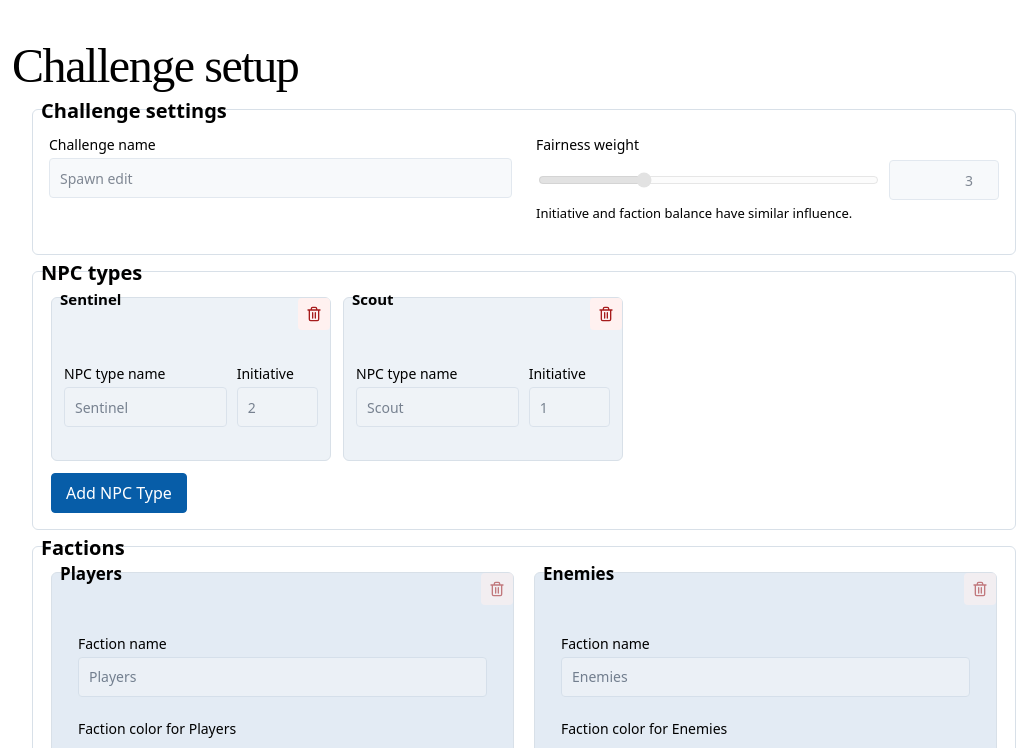
new challenge setup › initializes the NPC default after reload and permits only new type configuration
Expected: the heading "Challenge setup" is shown, [12, 39, 298, 92]
Expected: the field named "NPC type name: Sentinel" is disabled, [64, 387, 227, 427]
Click the button "Add NPC Type" at (119, 493), box [51, 473, 187, 513]
(page scrolled)
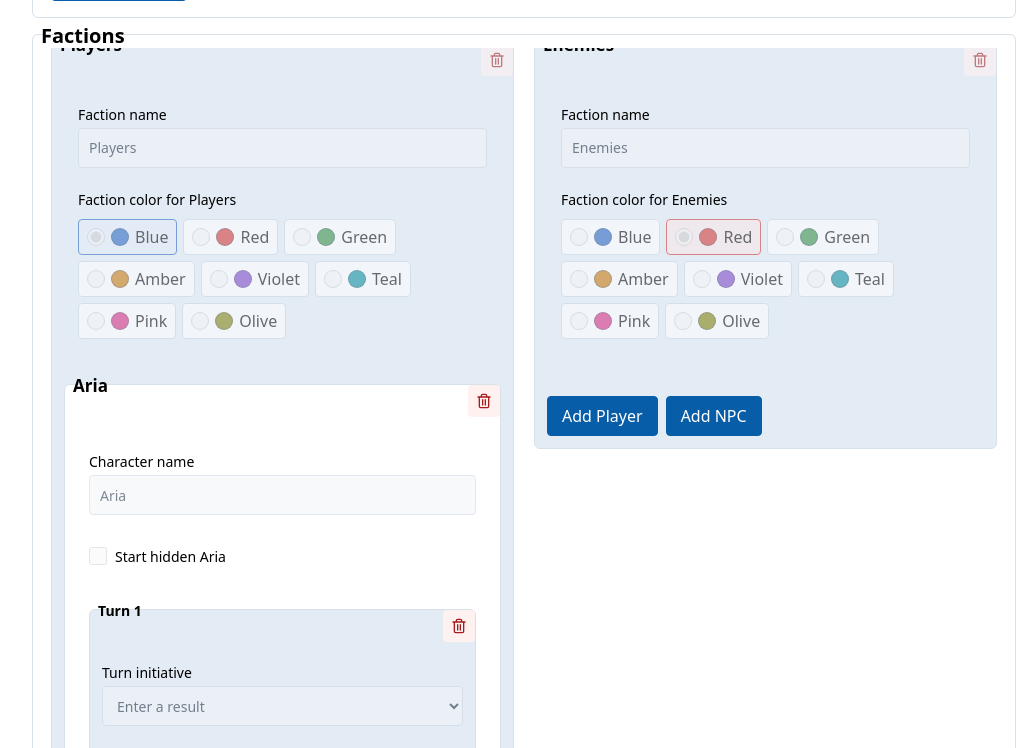
Click the button "Add NPC" at (714, 416), box [666, 396, 762, 436]
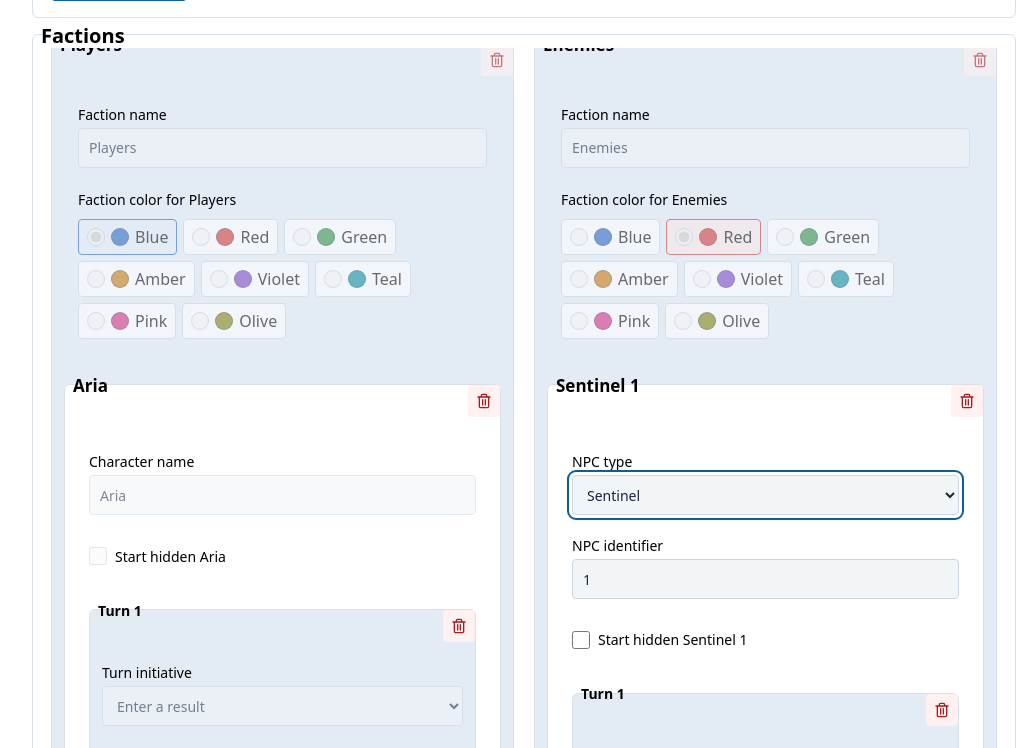
Expected: the field labelled "NPC identifier" is enabled, [572, 559, 959, 599]
Result: the dropdown named "NPC type for Sentinel 1" is shown at [572, 475, 959, 515]
